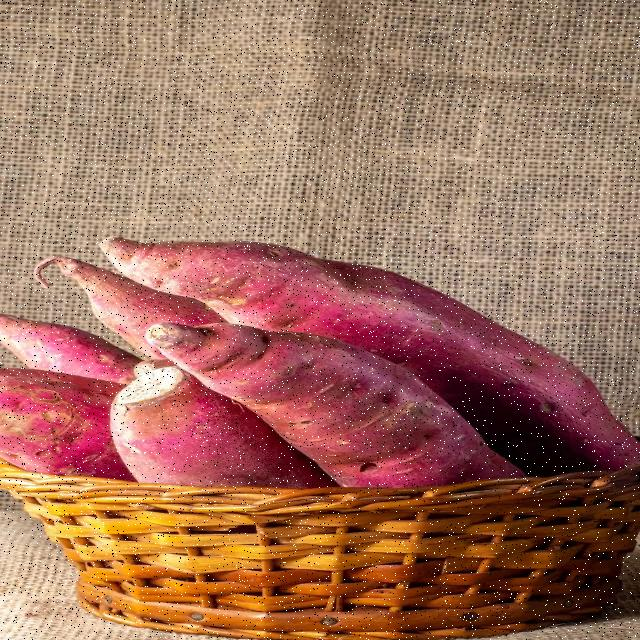Sweet Potato: (29, 191, 634, 481)
